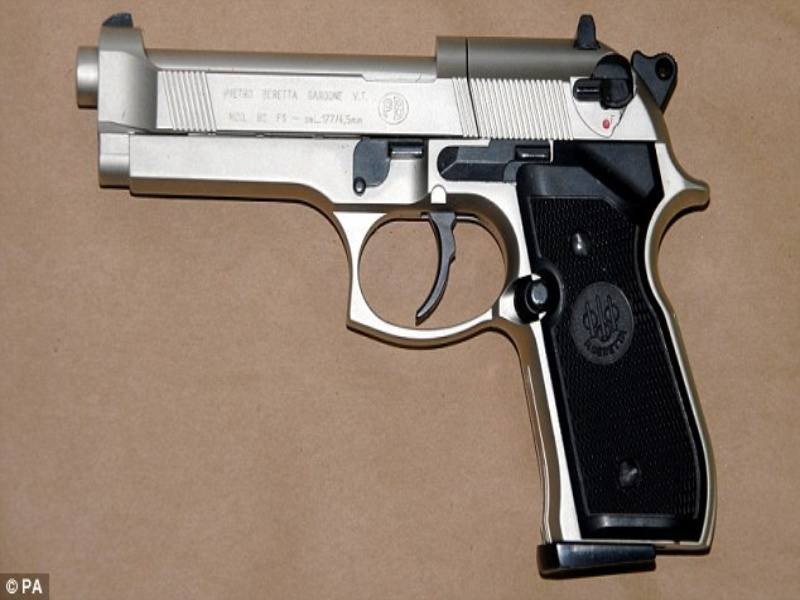gun: (68, 7, 733, 580)
